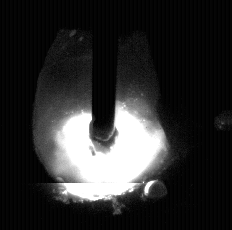arame: (92, 0, 117, 153)
poca: (33, 0, 168, 230)
